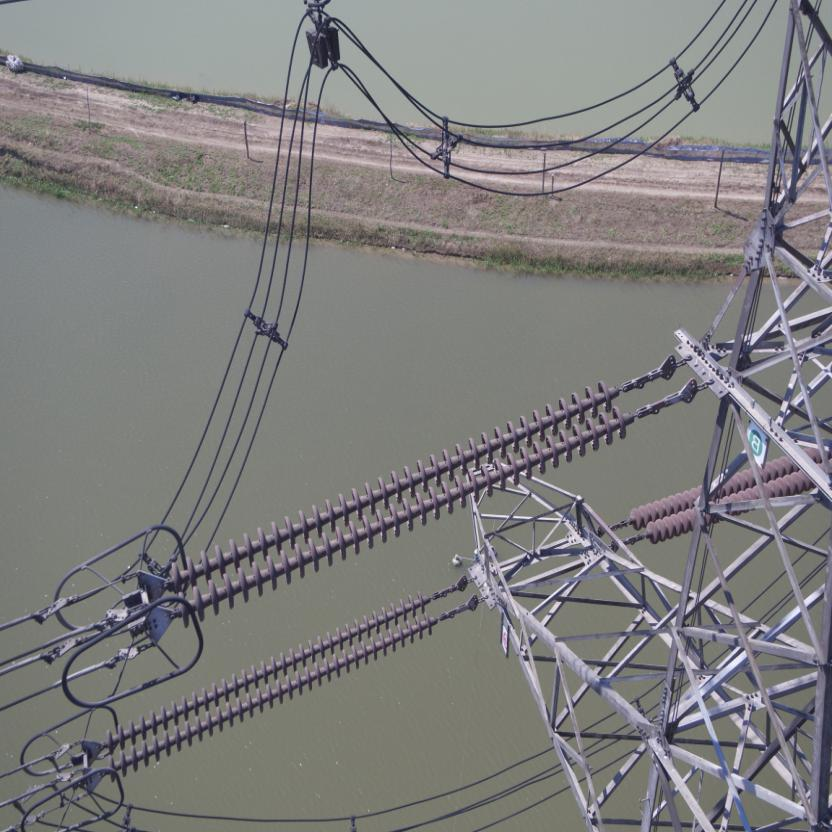insulator: (167, 369, 653, 630), (99, 586, 450, 784), (620, 442, 818, 544)
